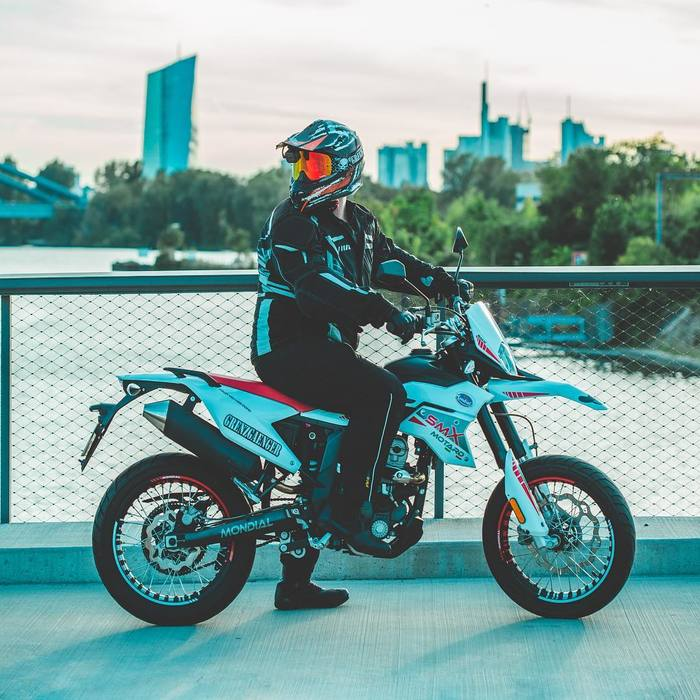h: (273, 113, 372, 223)
